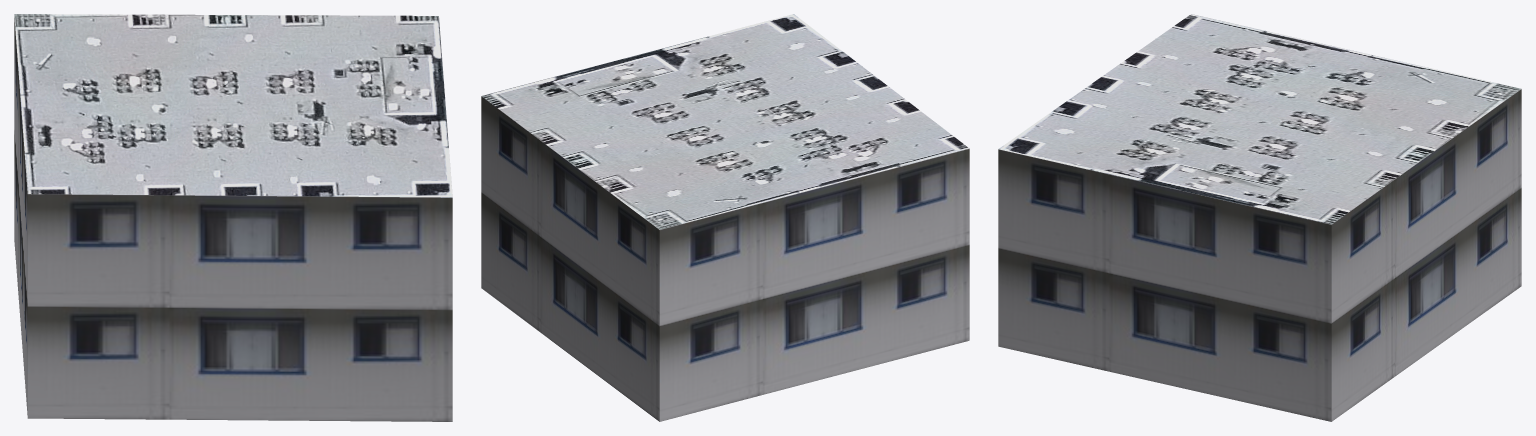
File: ResTex__3032.fbx
3 views of the same model, side by side, from view 1: azimuth 30°, elevation 25°; view 2: azimuth 150°, elevation 25°; view 3: azimuth 270°, elevation 25° (orthographic). The views are drawn at different scales.
Parts seen in each view (by area): view 1: CityEngineMaterial_9_m, CityEngineMaterial_4_m; view 2: CityEngineMaterial_9_m, CityEngineMaterial_4_m; view 3: CityEngineMaterial_9_m, CityEngineMaterial_4_m.
Boxes of the visible parts, box(x1,y1,x2,y2) form: CityEngineMaterial_9_m: box(14, 18, 452, 421); CityEngineMaterial_4_m: box(14, 14, 452, 197); CityEngineMaterial_9_m: box(481, 96, 969, 421); CityEngineMaterial_4_m: box(481, 14, 969, 229); CityEngineMaterial_9_m: box(998, 89, 1521, 421); CityEngineMaterial_4_m: box(998, 14, 1521, 224).
Bounding box in the file's own units: 13.74 × 6 × 14.43.
2 materials, 2 textured.
